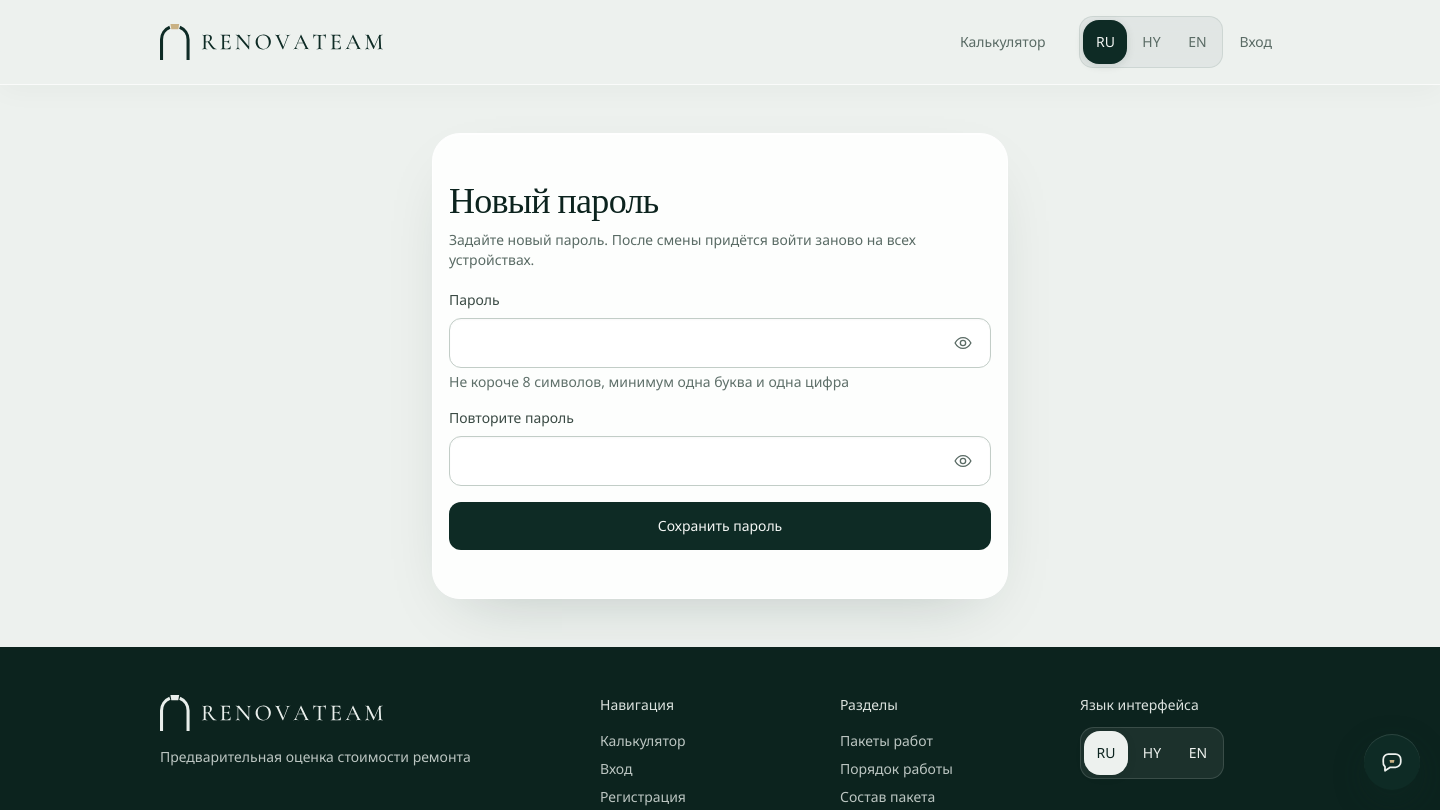
Scenario: страница установки нового пароля › несовпадающие пароли не уходят на сервер
Type "NewPassword9" into the password field labelled "Пароль" at (720, 343), box [449, 318, 991, 368]
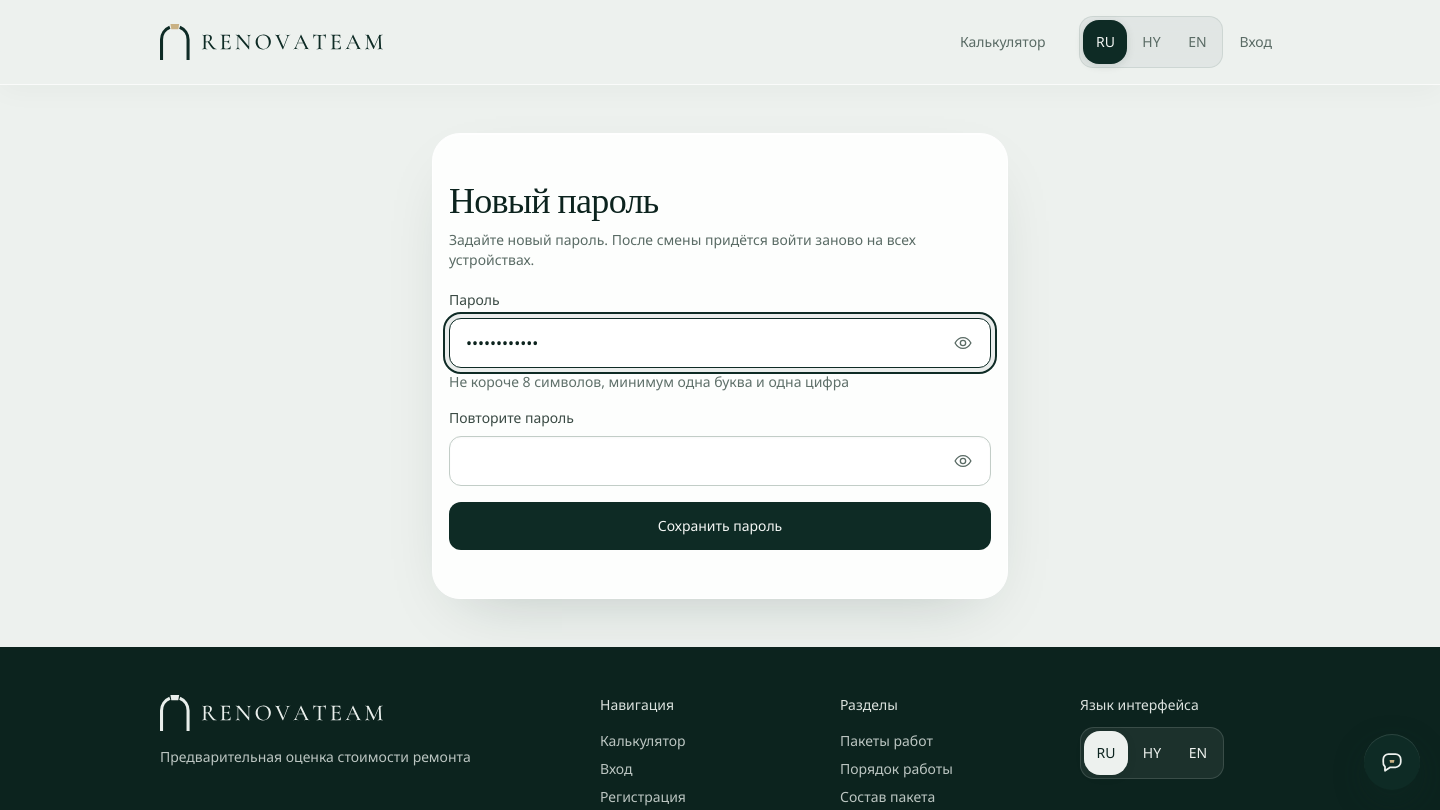
Type "NewPassword8" into the password field labelled "Повторите пароль" at (720, 461), box [449, 436, 991, 486]
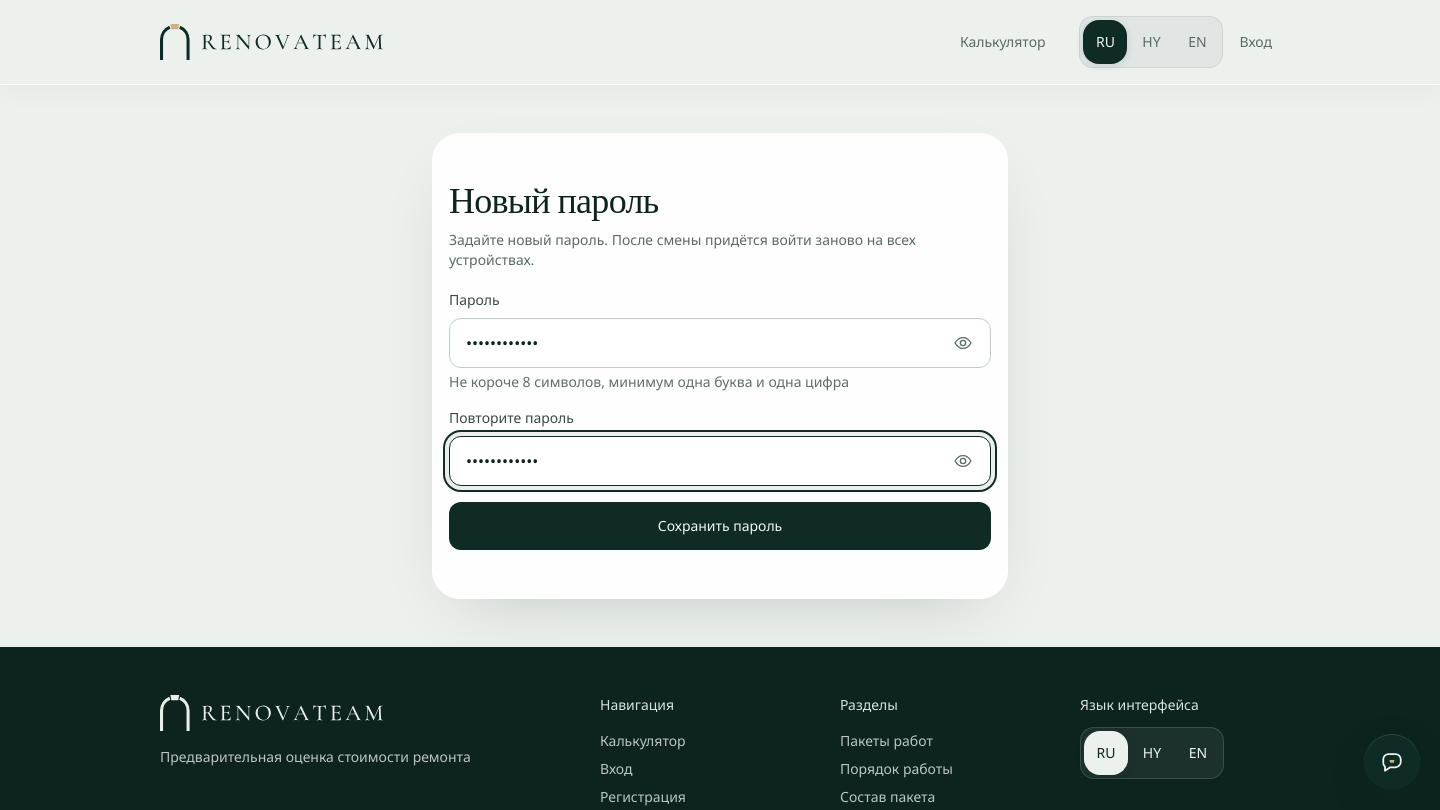
Click the button "Сохранить пароль" at (720, 526), box [449, 502, 991, 550]
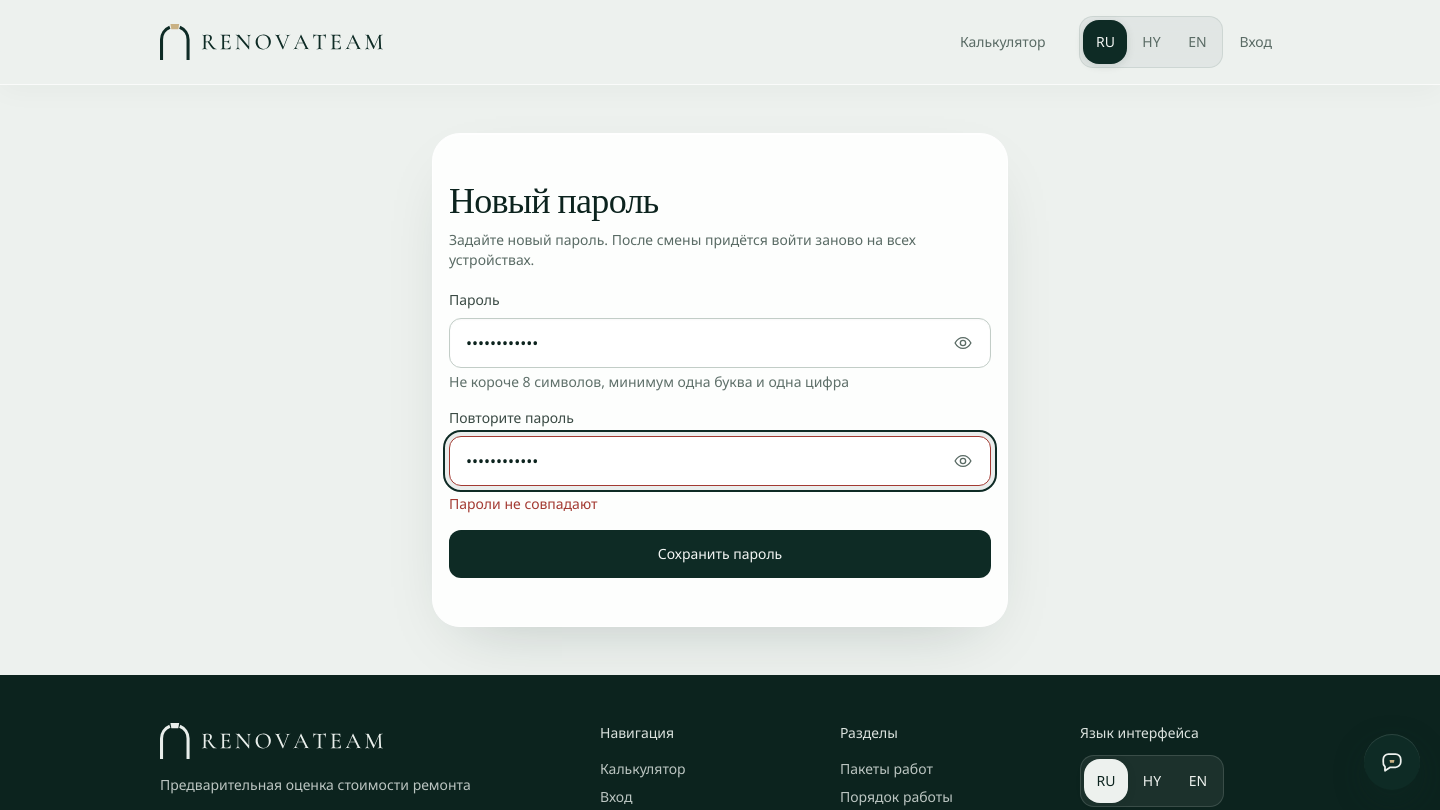
Result: the text "Пароли не совпадают" is shown at [449, 494, 598, 513]
